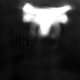plane: (20, 1, 73, 39)
